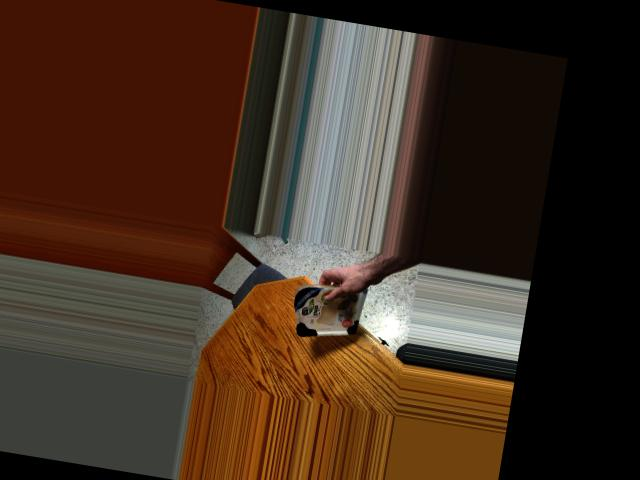cheese: (285, 278, 376, 341)
